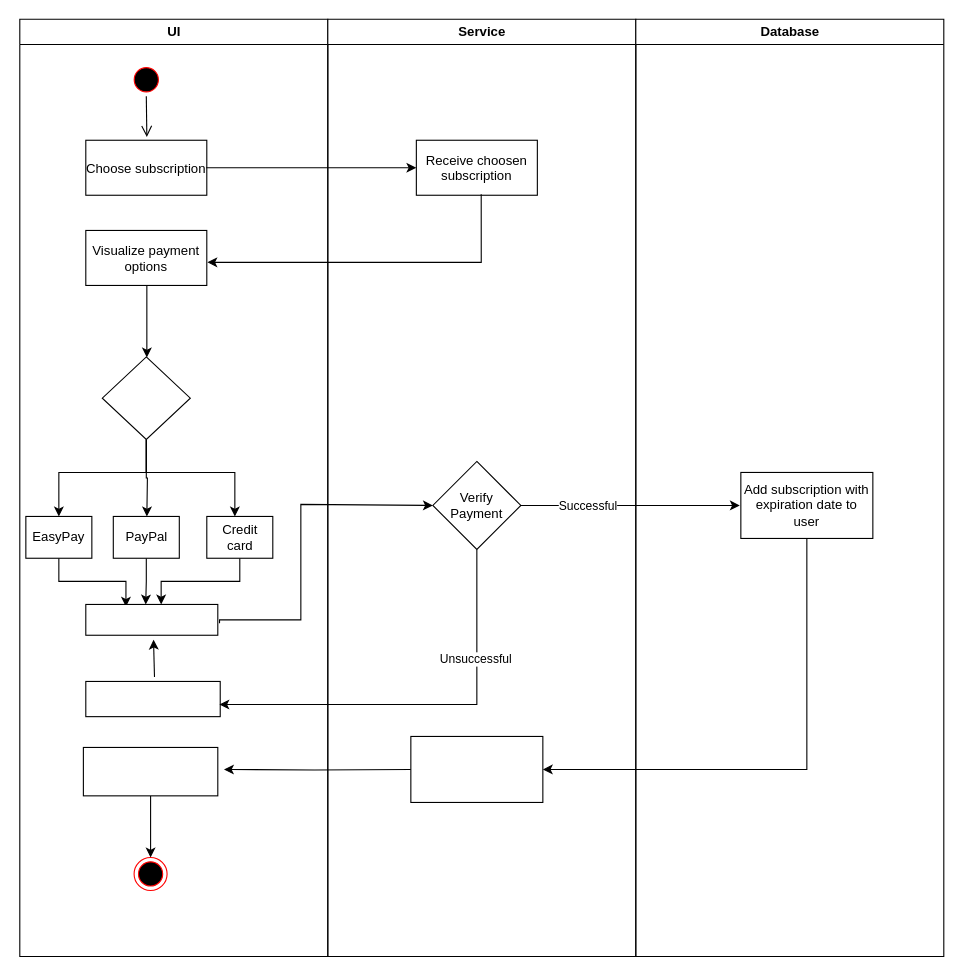
The diagram is 963 pixels wide and 976 high, and some of its shapes have lost their labels. Each missing label, with the centre of its shape:
"Choose payment method" goes at pixel 145 397.
"Enter payment information" goes at pixel 151 619.
"Return successful message" goes at pixel 476 768.
"Show message for successful payment" goes at pixel 150 771.
"Show message for unsuccessful payment" goes at pixel 152 698.
